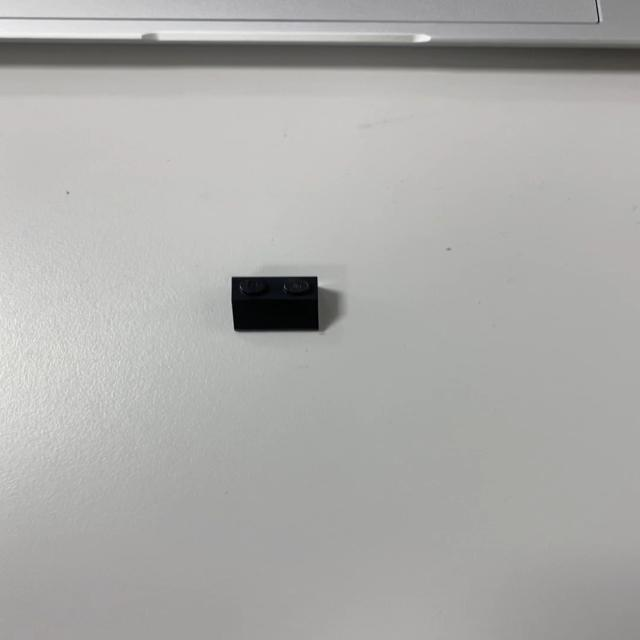P2x2x1: (230, 275, 320, 332)
